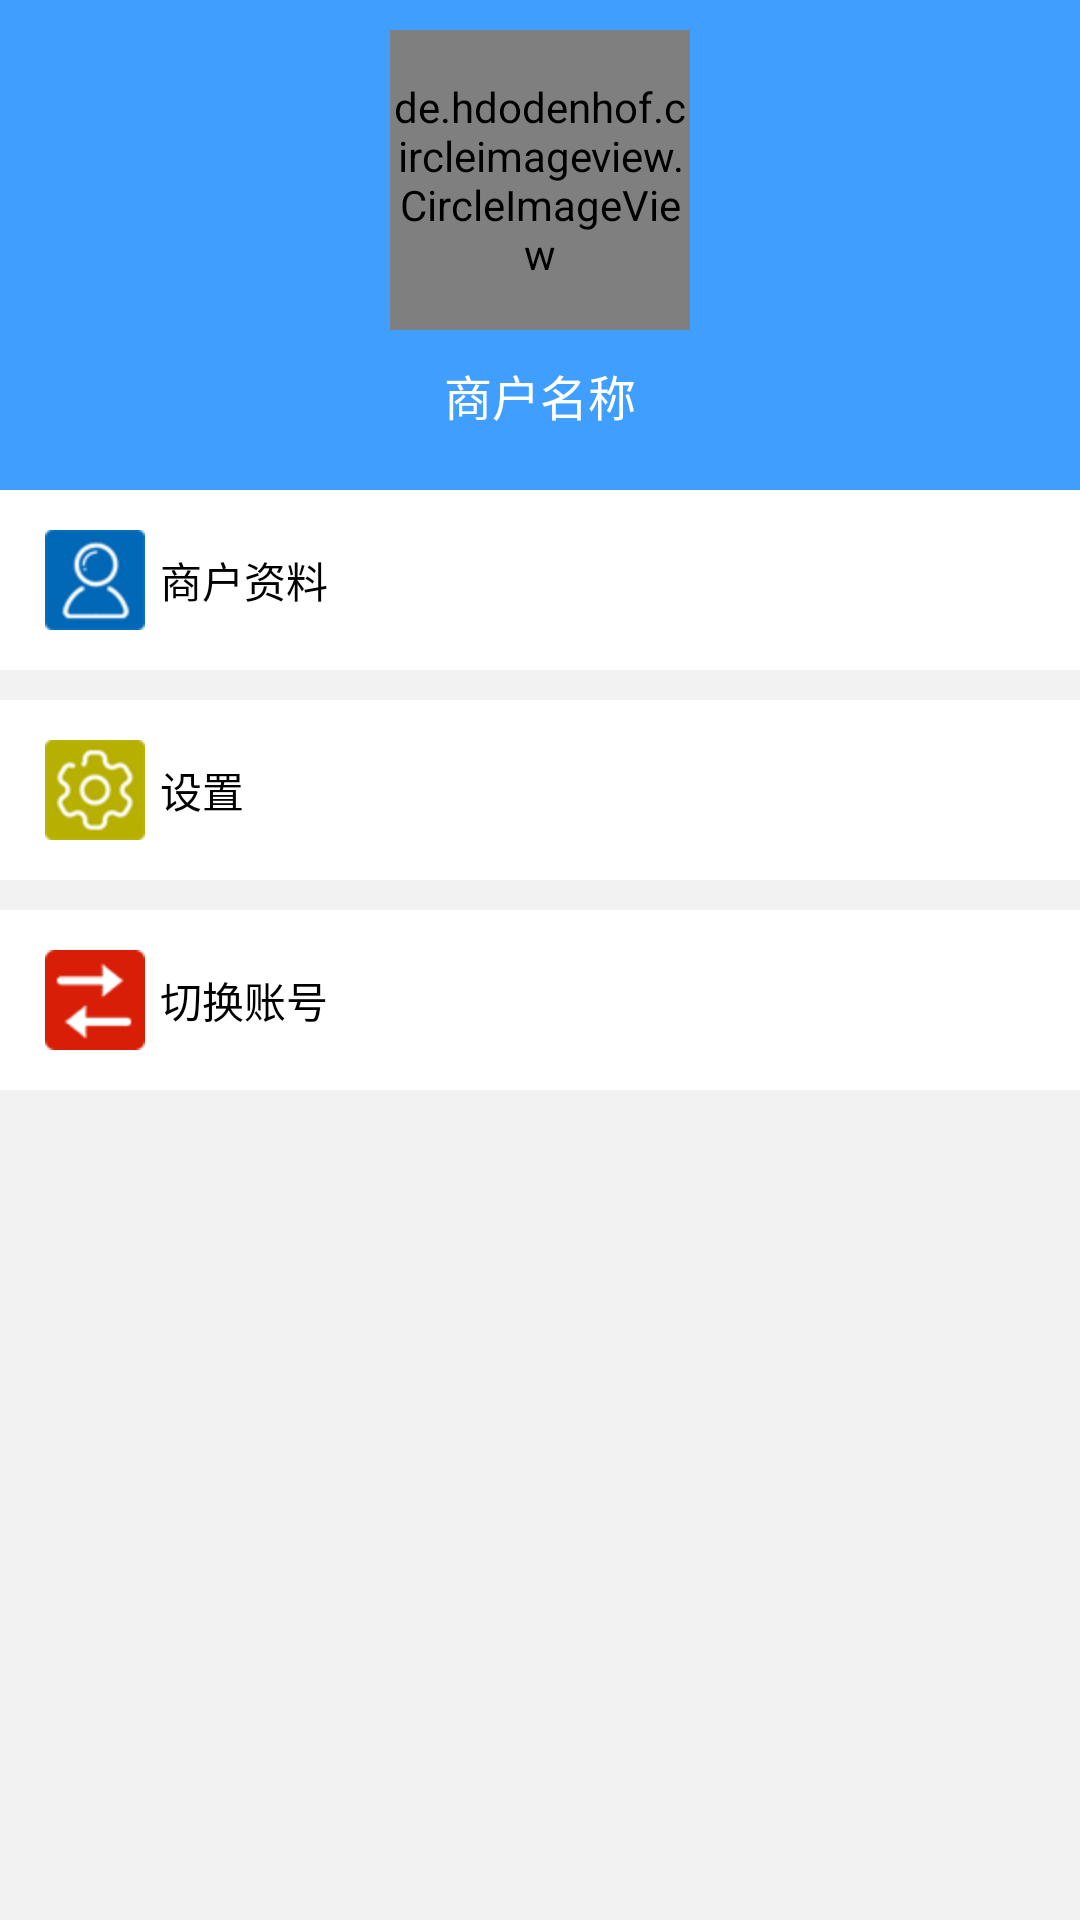

Named icons in this screenshot (1080w x 1920h) and their centers, point (x, y):
user info: point (95, 580)
